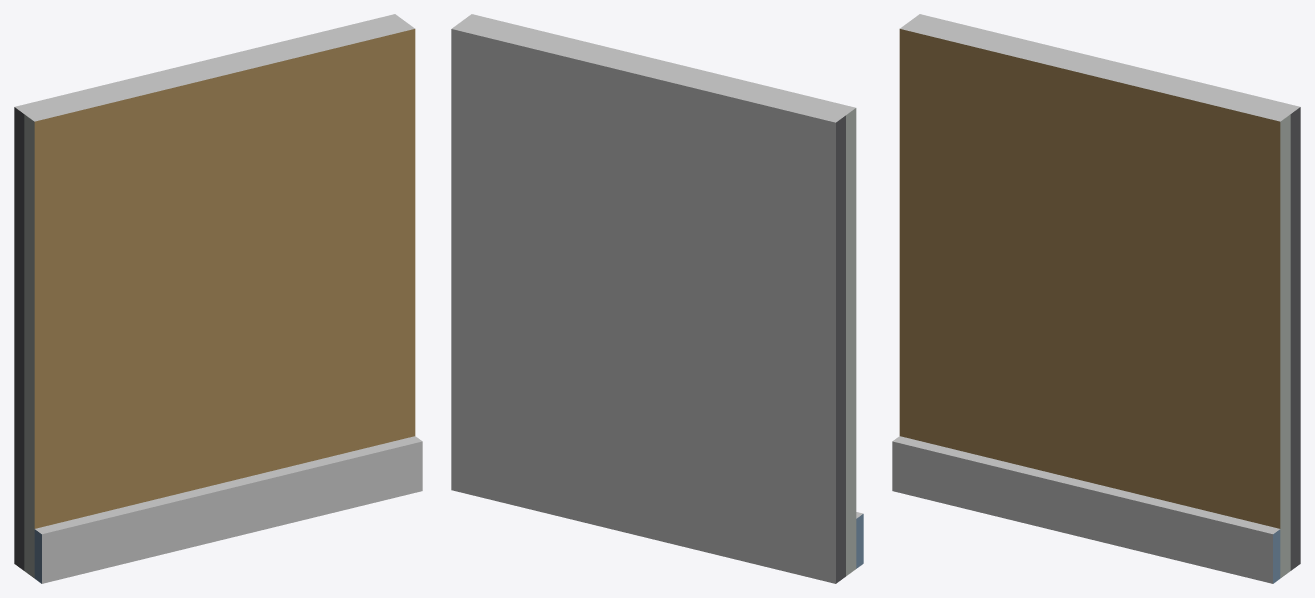
Rendered from Base_Wal_1.fbx.
The picture shows the model from 3 angles, left to right: view 1: azimuth 30°, elevation 25°; view 2: azimuth 150°, elevation 25°; view 3: azimuth 330°, elevation 25°; orthographic projection.
Parts seen in each view (by area): view 1: Base_Wall_1; view 2: Base_Wall_1; view 3: Base_Wall_1.
Boxes of the visible parts, x1,y1,x2,y2 form: Base_Wall_1: (14,14,422,583); Base_Wall_1: (451,14,863,583); Base_Wall_1: (892,14,1300,583).
Bounding box in the file's own units: 2.73 × 3.13 × 0.3416.
